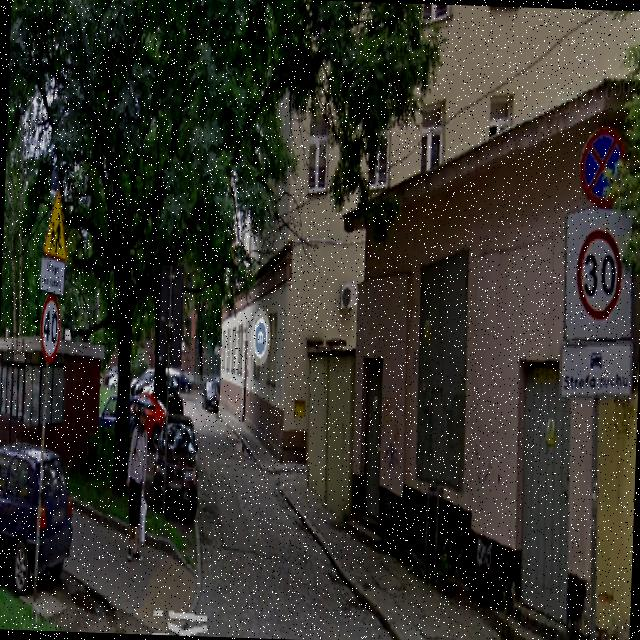Dzieci: (40, 184, 69, 264)
Zakaz zatrzymywania sie: (576, 126, 627, 205)
